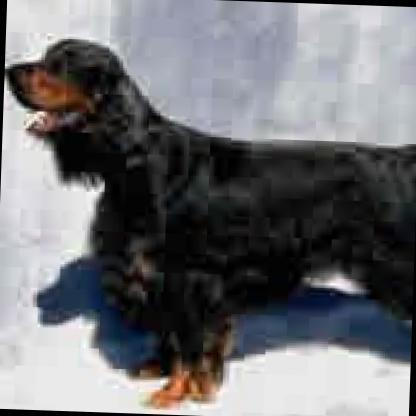Gordon_setter: (0, 34, 416, 415)
